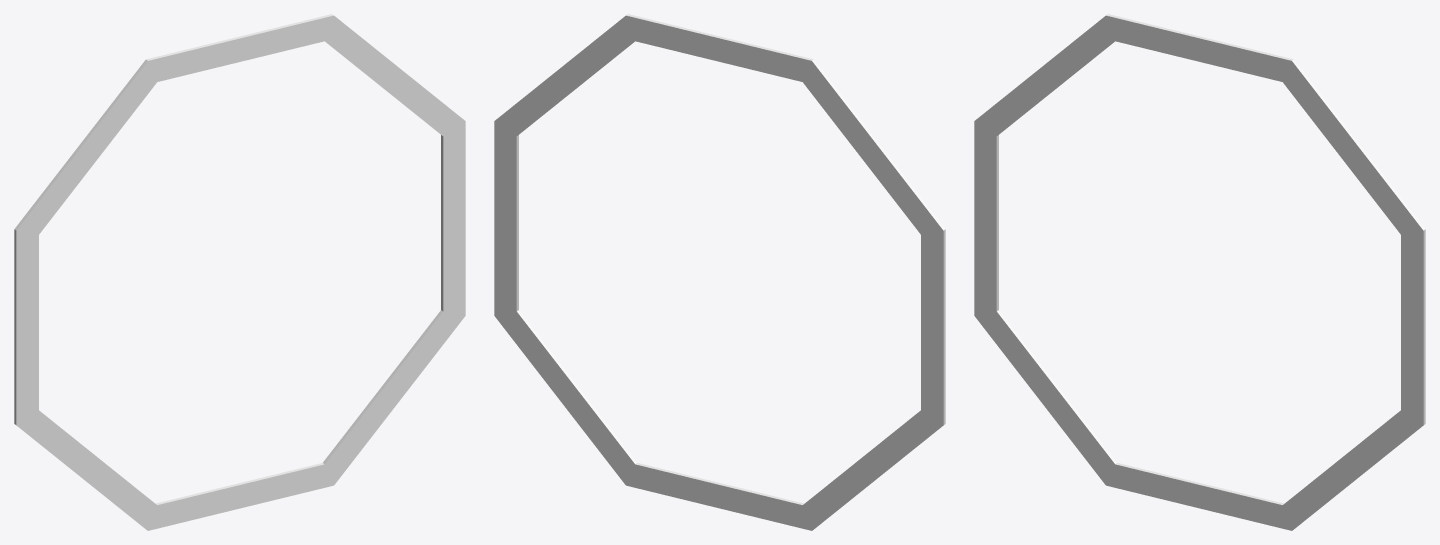
File: octagon.obj
The picture shows the model from 3 angles, left to right: view 1: azimuth 30°, elevation 25°; view 2: azimuth 150°, elevation 25°; view 3: azimuth 330°, elevation 25°; orthographic projection.
Parts seen in each view (by area): view 1: Cylinder; view 2: Cylinder; view 3: Cylinder.
Part boxes in pixels (left/top/right/bottom): Cylinder: left=14, top=14, right=465, bottom=530; Cylinder: left=494, top=14, right=945, bottom=530; Cylinder: left=974, top=14, right=1425, bottom=530.
Size of the model in its own units: 2.77 by 2.77 by 0.0225.
Materials: 1 (1 with a texture image).
